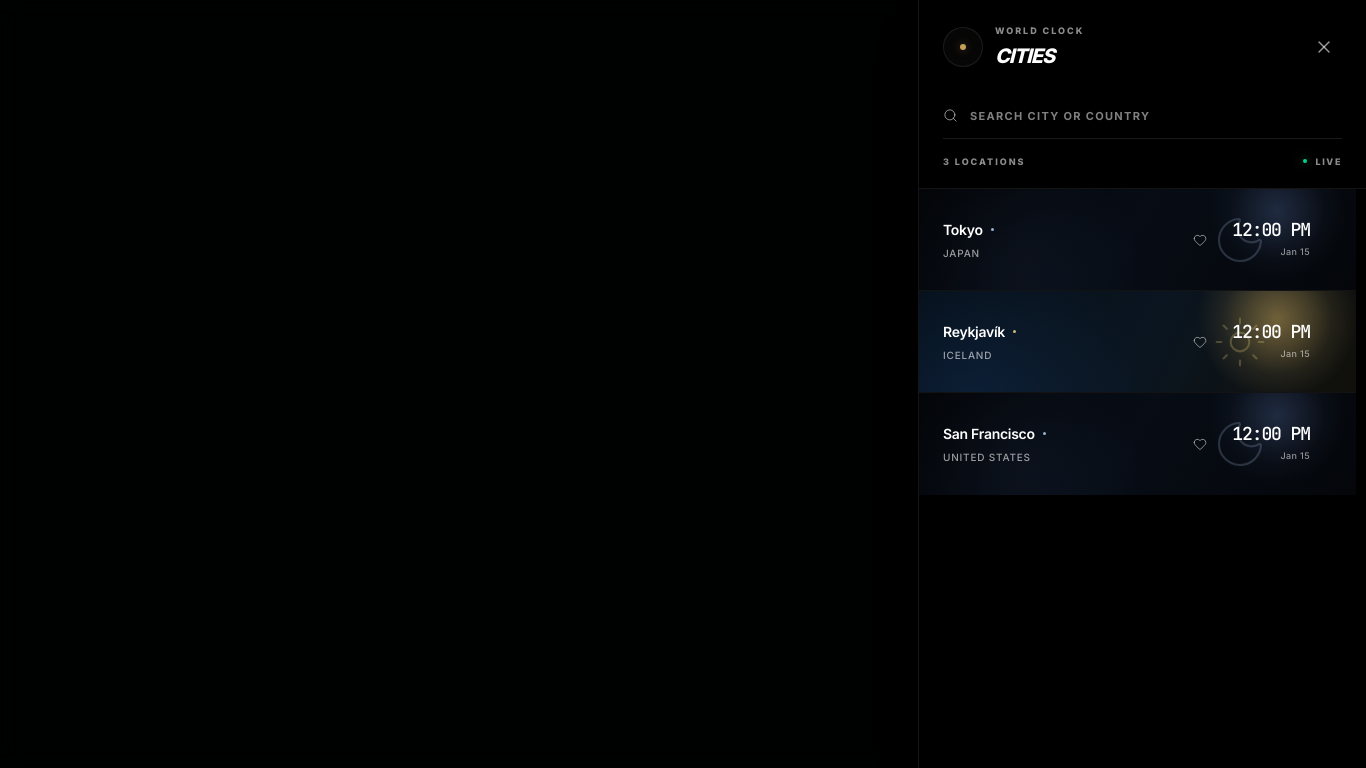
Test: CitiesSection — results count › uses the singular noun when exactly one match remains
The image size is (1366, 768).
Expected: the dialog is shown, [918,0,1365,767]
Type "Iceland" into the search field named "Search cities".
click(1156, 116); type("Iceland")  # box [970,94,1342,138]
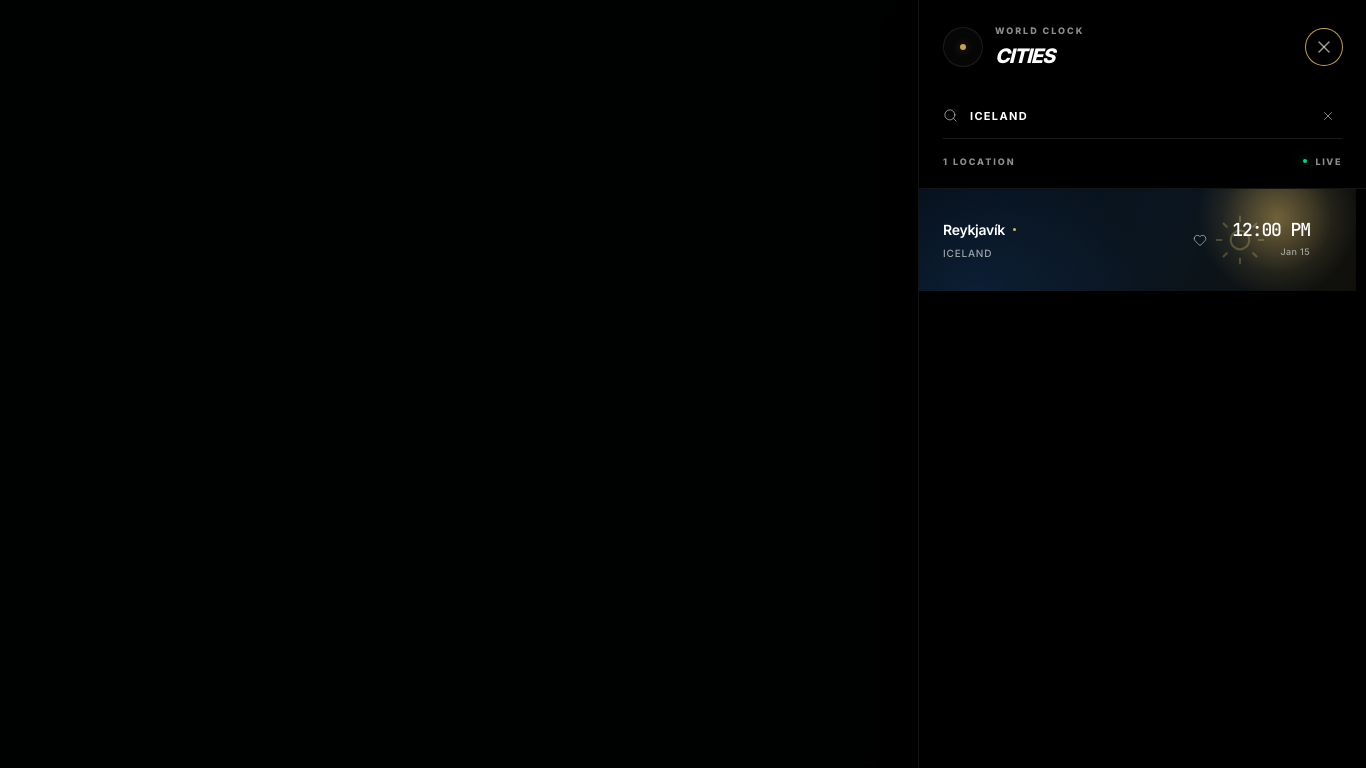
Expected: the text with test id "cities-results-count" reads "1 Location", [943,154,1016,168]
